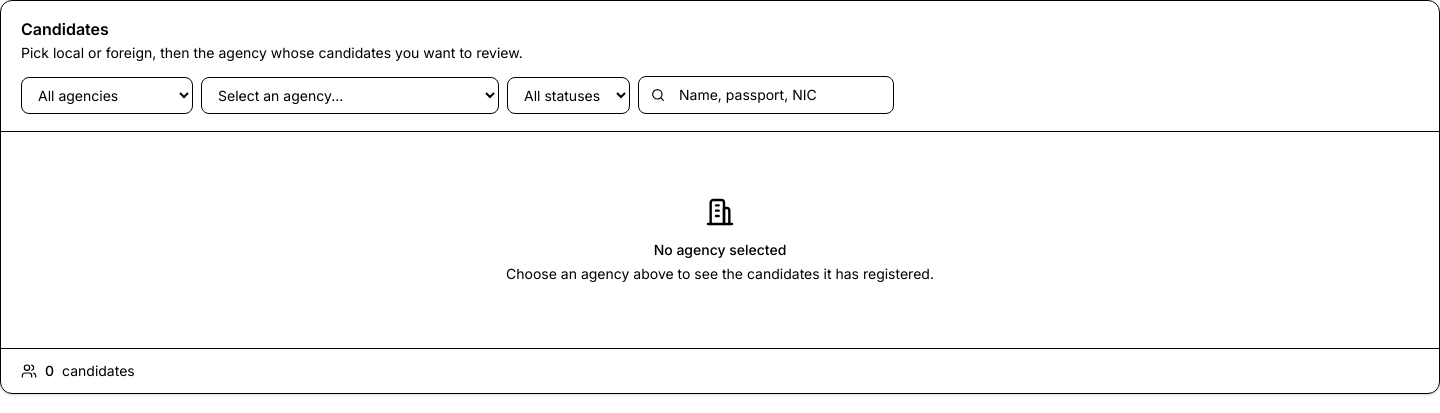
it: candidates by agency › lists who local agencies registered for a foreign company, with their numbers
Step 1. Select "Foreign companies" in the dropdown named "agency type" → [107, 95], box 21,76 -> 193,114
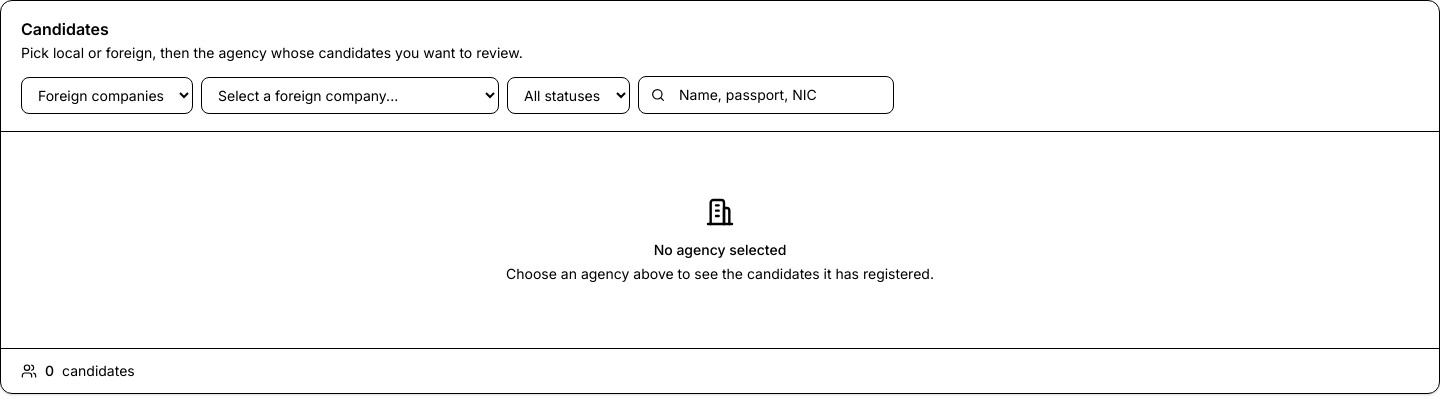
Step 2. Select "Horizon Manpower (foreign company)" in the dropdown named "Agency" → [350, 95], box 201,76 -> 499,114
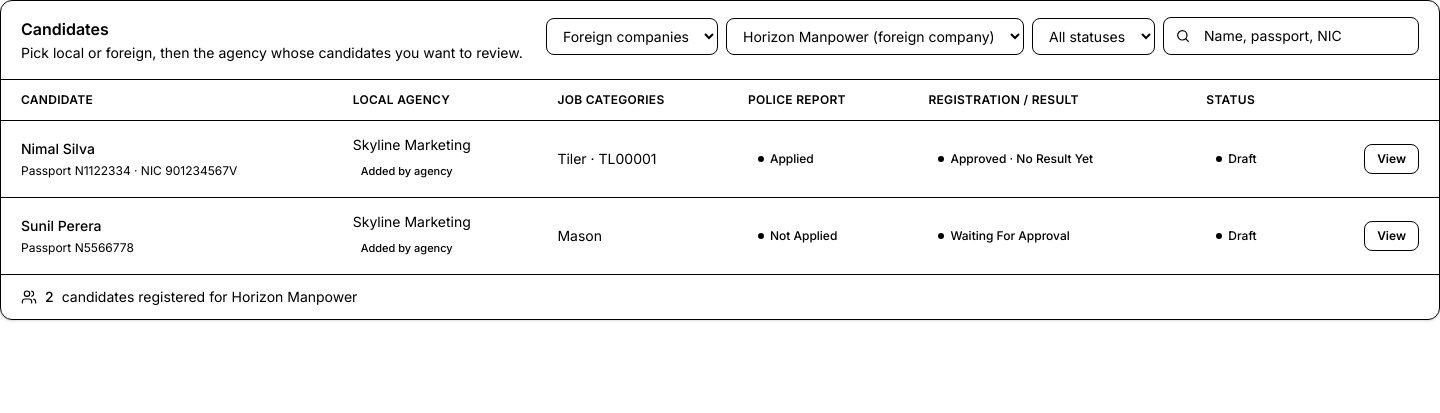
Expected: the text "Skyline Marketing" in the row of "Nimal Silva" is shown, 353,136 -> 471,153
Expected: the list item "Tiler · TL00001" is shown, 557,150 -> 656,167
Expected: the text "Applied" is shown, 758,151 -> 814,166
